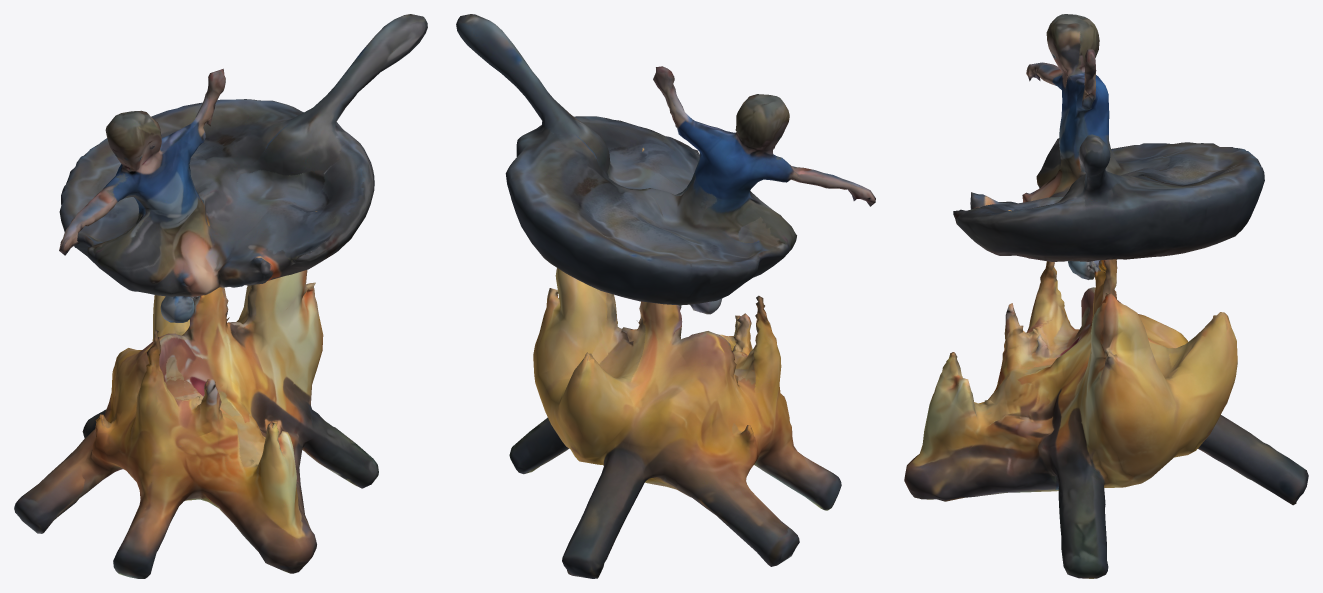
The model's file is 019121b2-11ea-7218-8ce9-92ea1707d5d7_glb.glb.
3 renders of one model, left to right at view 1: azimuth 30°, elevation 25°; view 2: azimuth 150°, elevation 25°; view 3: azimuth 270°, elevation 25°, orthographic. The views are drawn at different scales.
Bounding box in the file's own units: 1.1 × 1.2 × 0.945.
1 material, 1 textured.
